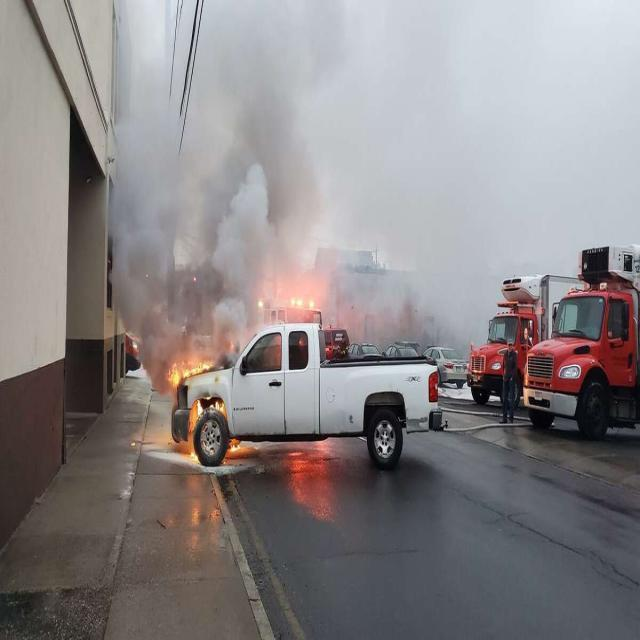Fire: (167, 362, 213, 388), (198, 400, 225, 422)
Smoke: (107, 0, 447, 393)
